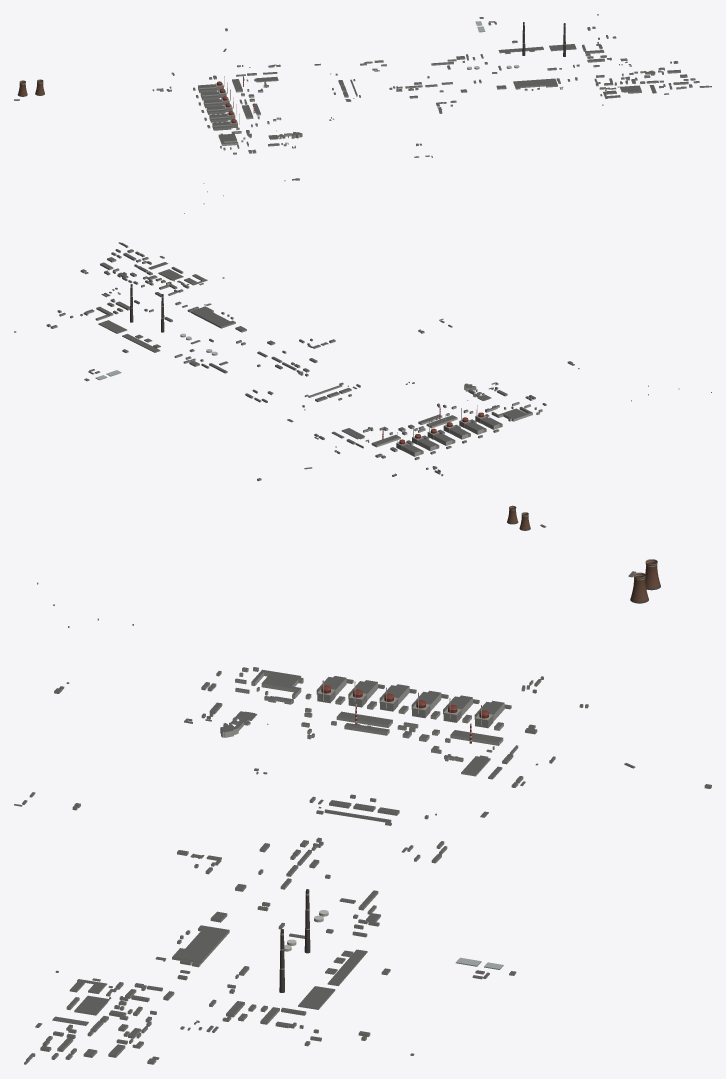
The model's file is znpp.glb.
3 views of the same model, one above another, from view 1: azimuth 30°, elevation 25°; view 2: azimuth 150°, elevation 25°; view 3: azimuth 270°, elevation 25° (orthographic). The views are drawn at different scales.
Parts seen in each view (by area): view 1: znpp; view 2: znpp; view 3: znpp.
Part boxes in pixels (x1,y1,x2,y2): znpp: [14, 14, 711, 213]; znpp: [14, 242, 711, 530]; znpp: [14, 559, 711, 1064].
Bounding box in the file's own units: 5456 × 382 × 3257.
